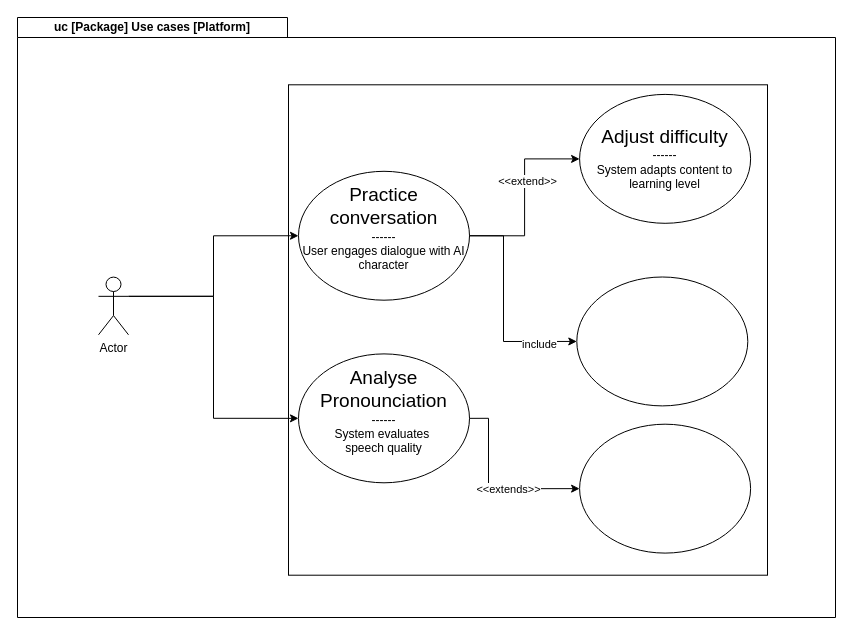
Some shapes in this 853 by 635 pixel diagram are drawn without their labels. Here are the shapes that lost their labels. From the top down, the centre of each, then its label:
At point (662, 341): "Select Scenario ------ User chooses learning context".
At point (665, 488): "Track progress ------ System records Learning metrics".
